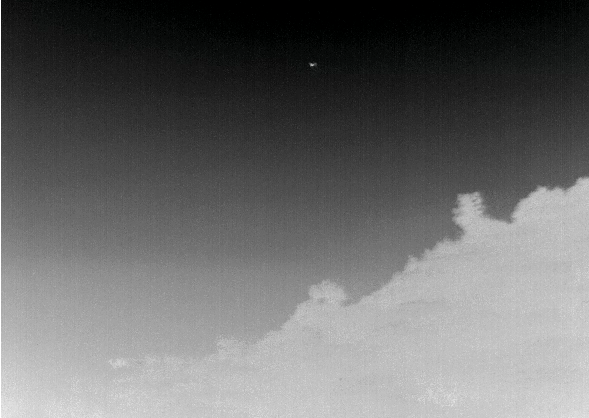dim target: (308, 62, 317, 68)
